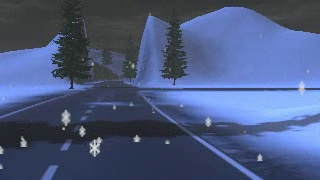Lane: (0, 80, 317, 179)
